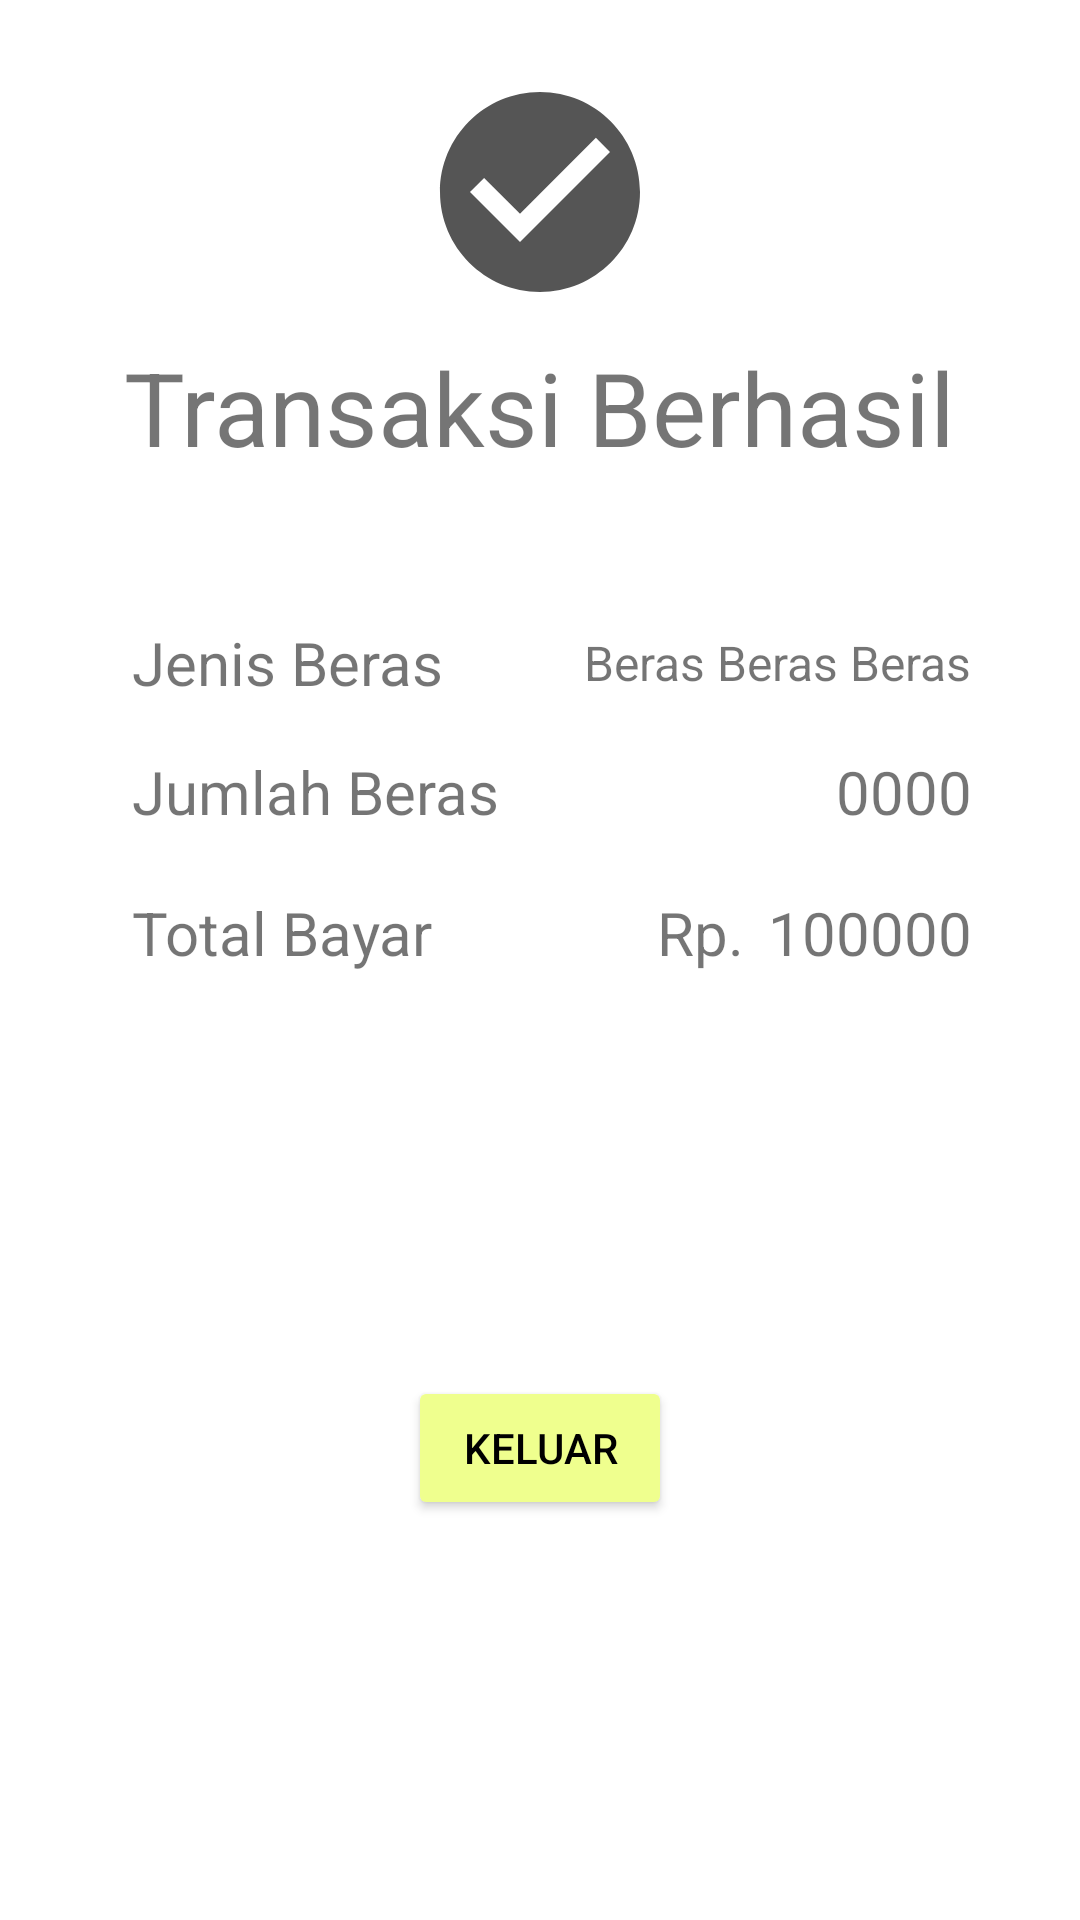

Screen size 1080 x 1920. Icon name, then its center in pixels as (x,y):
check circle: (540,192)
